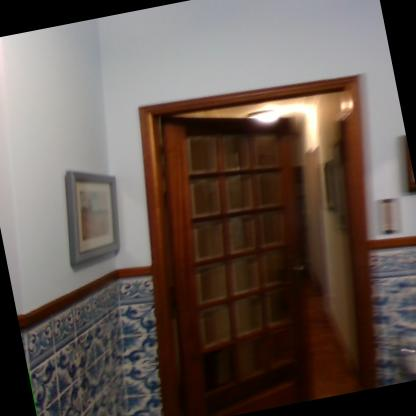semi: (89, 61, 415, 415)
